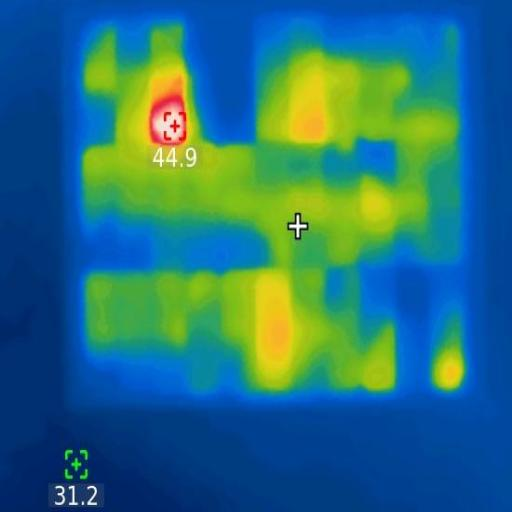hotspot: (147, 97, 190, 150)
